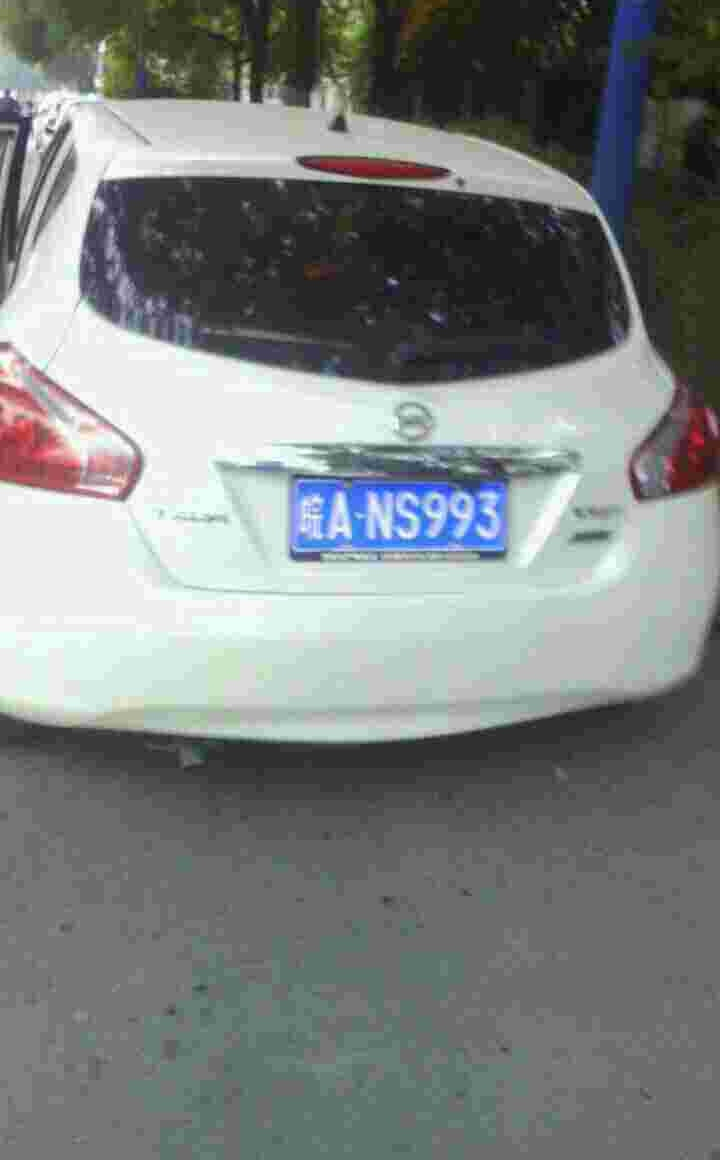license_plate: (298, 478, 503, 554)
